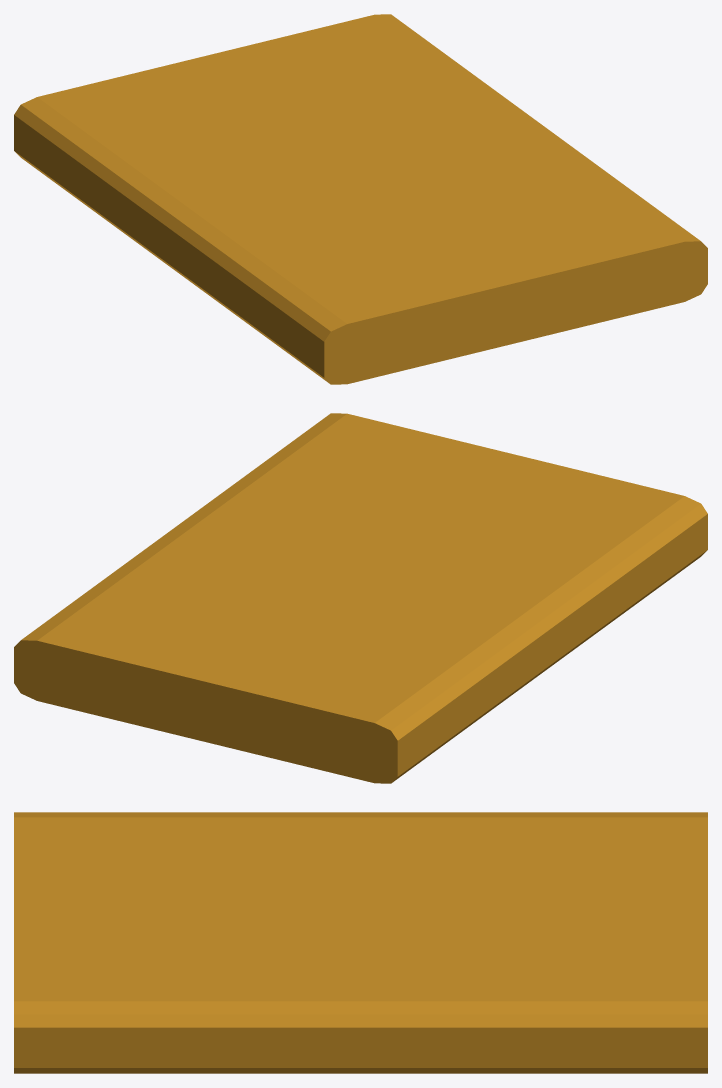
File: Mattress.fbx
3 views of the same model, one above another, from view 1: azimuth 30°, elevation 25°; view 2: azimuth 150°, elevation 25°; view 3: azimuth 270°, elevation 25° (orthographic). The views are drawn at different scales.
Parts seen in each view (by area): view 1: Mattress; view 2: Mattress; view 3: Mattress.
Part boxes in pixels (x1,y1,x2,y2): Mattress: [14, 14, 707, 384]; Mattress: [14, 413, 707, 783]; Mattress: [14, 812, 707, 1073].
Bounding box in the file's own units: 200 × 30 × 280.
